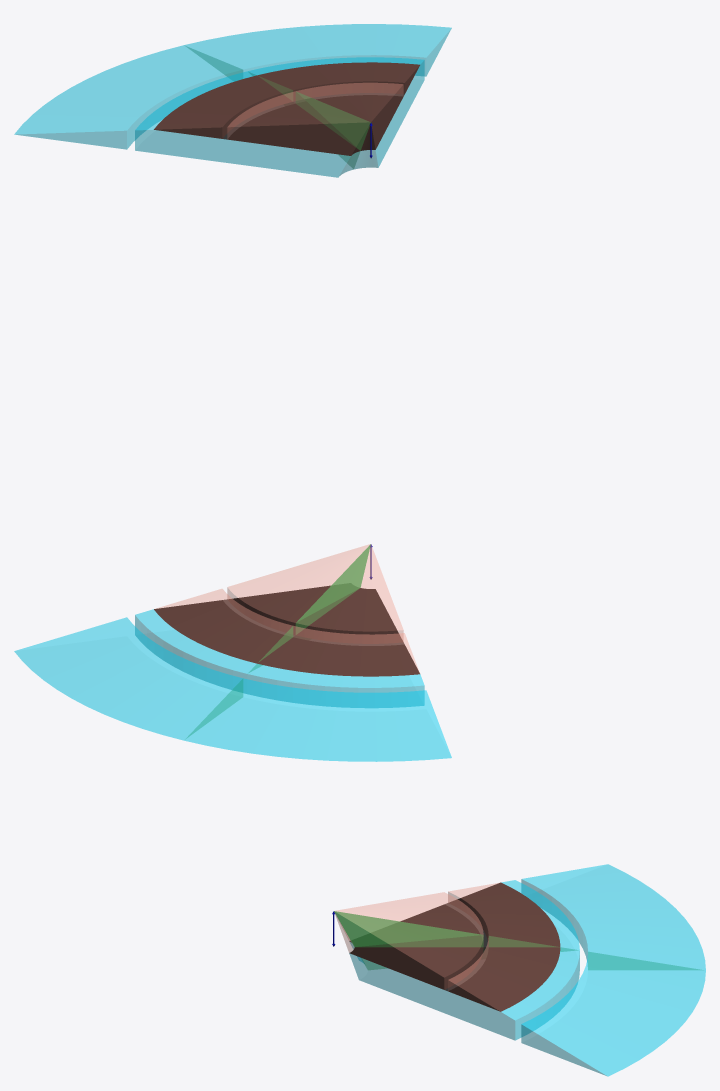
Rendered from area_11.glb.
3 renders of one model, top to bottom at view 1: azimuth 30°, elevation 25°; view 2: azimuth 150°, elevation 25°; view 3: azimuth 270°, elevation 25°, orthographic.
Visible parts, largest first — view 1: defaultobject.001, defaultobject; view 2: defaultobject.001, defaultobject; view 3: defaultobject.001, defaultobject.
Boxes of the visible parts, x1,y1,x2,y2 form: defaultobject.001: (14,24,451,177); defaultobject: (154,62,419,155); defaultobject.001: (14,585,451,761); defaultobject: (154,544,419,676); defaultobject.001: (349,864,705,1076); defaultobject: (334,882,560,1011).
Size of the model in its own units: 50.33 by 10.57 by 69.25.
